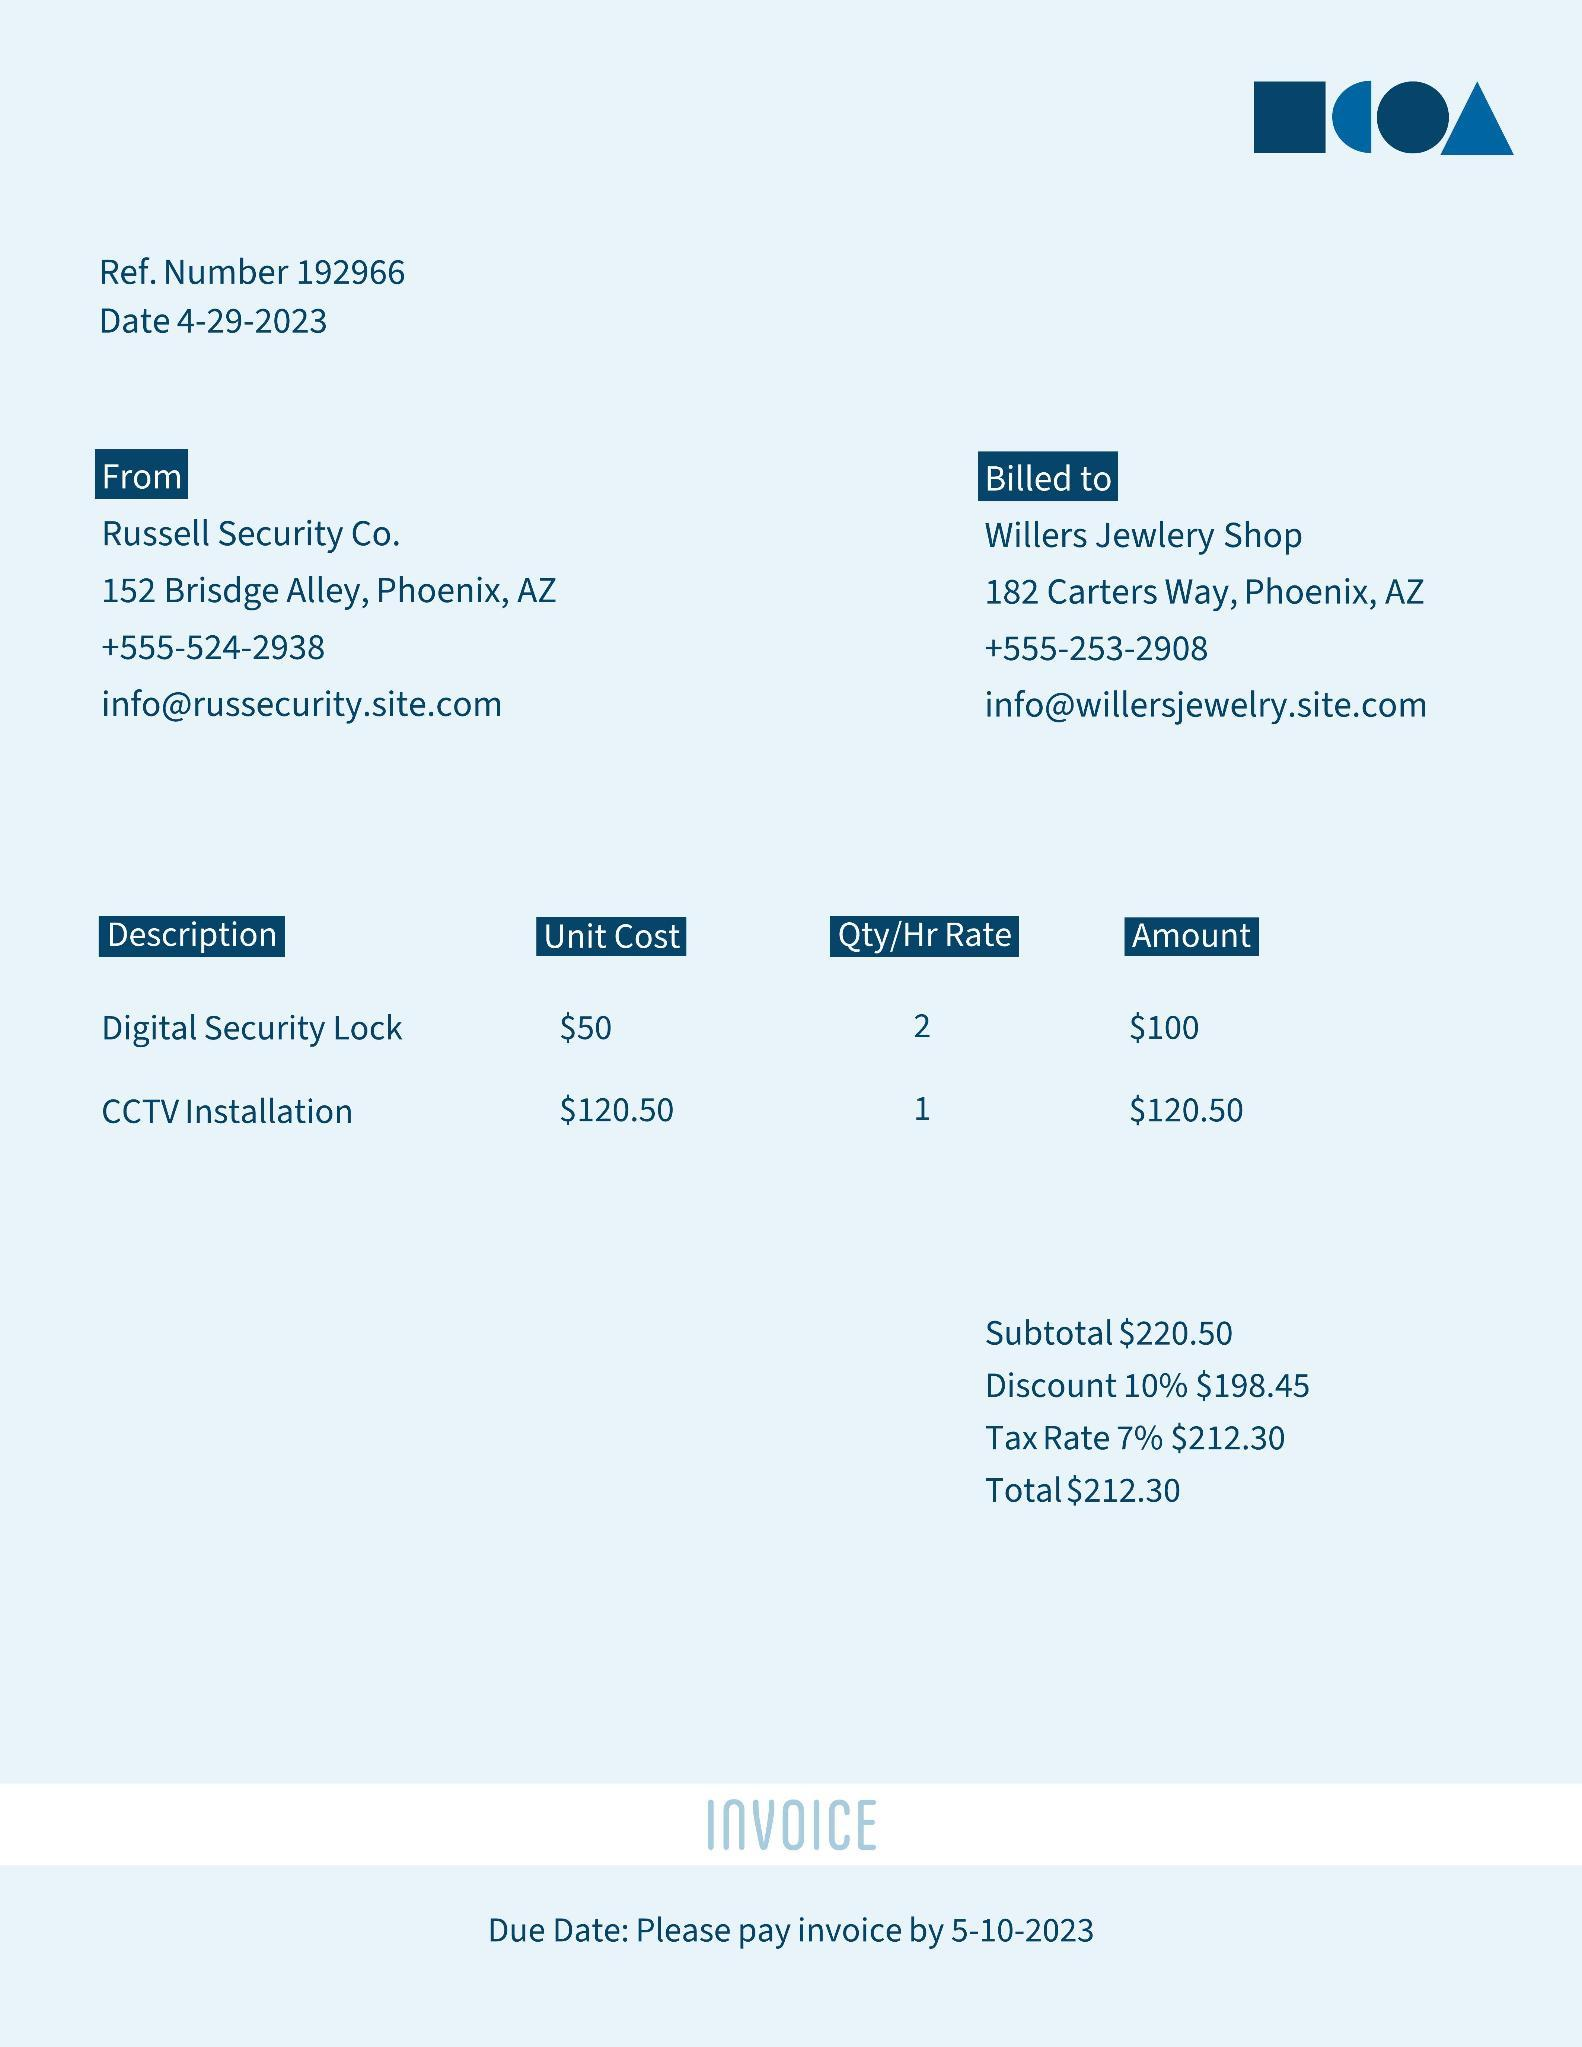ROI: (72, 888, 1272, 1141), (83, 441, 581, 730), (977, 448, 1456, 728), (969, 1308, 1317, 1522), (79, 236, 427, 348), (482, 1916, 1099, 1973), (693, 1793, 891, 1860)
